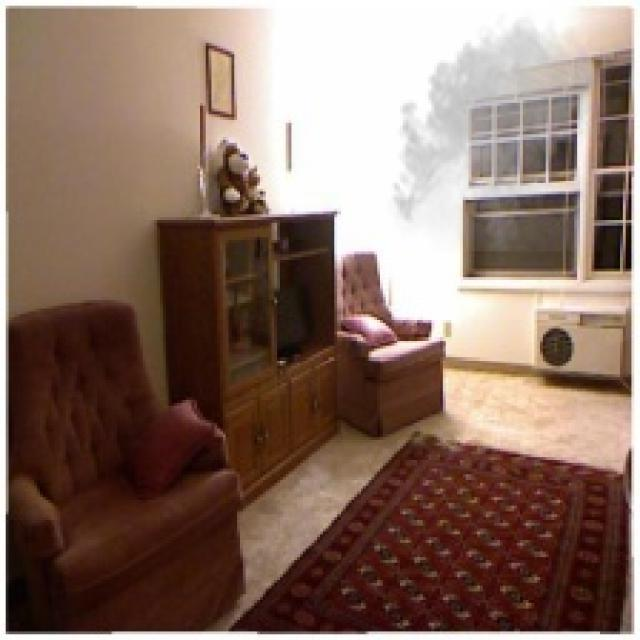Smoke: (386, 8, 603, 252)
